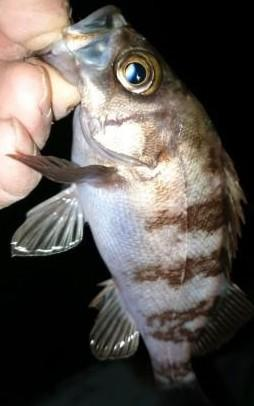fish: (5, 5, 253, 405)
